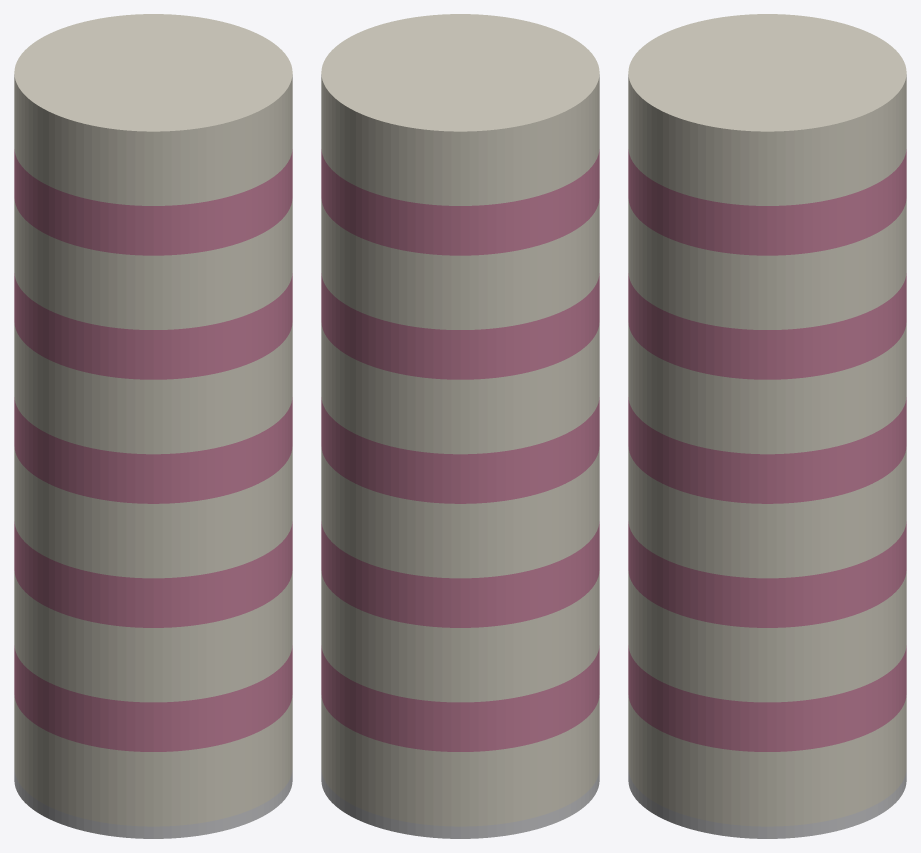
The model's file is cake_4in_layers6.glb.
3 views of the same model, side by side, from view 1: azimuth 30°, elevation 25°; view 2: azimuth 150°, elevation 25°; view 3: azimuth 270°, elevation 25° (orthographic).
Visible parts, largest first — view 1: geometry_10, geometry_6, geometry_0, geometry_2, geometry_4, geometry_8, geometry_9, geometry_3, geometry_1, geometry_7, geometry_5, geometry_11; view 2: geometry_10, geometry_6, geometry_0, geometry_2, geometry_4, geometry_8, geometry_9, geometry_3, geometry_1, geometry_7, geometry_5, geometry_11; view 3: geometry_10, geometry_6, geometry_0, geometry_2, geometry_4, geometry_8, geometry_9, geometry_3, geometry_1, geometry_7, geometry_5, geometry_11.
Part boxes in pixels (<box>): geometry_10: <box>14,14,292,205</box>; geometry_6: <box>14,323,292,454</box>; geometry_0: <box>14,695,292,826</box>; geometry_2: <box>14,571,292,702</box>; geometry_4: <box>14,447,292,578</box>; geometry_8: <box>14,199,292,329</box>; geometry_9: <box>14,149,292,255</box>; geometry_3: <box>14,521,292,627</box>; geometry_1: <box>14,645,292,751</box>; geometry_7: <box>14,273,292,379</box>; geometry_5: <box>14,397,292,503</box>; geometry_11: <box>14,769,292,838</box>; geometry_10: <box>321,14,599,205</box>; geometry_6: <box>321,323,599,454</box>; geometry_0: <box>321,695,599,826</box>; geometry_2: <box>321,571,599,702</box>; geometry_4: <box>321,447,599,578</box>; geometry_8: <box>321,199,599,329</box>; geometry_9: <box>321,149,599,255</box>; geometry_3: <box>321,521,599,627</box>; geometry_1: <box>321,645,599,751</box>; geometry_7: <box>321,273,599,379</box>; geometry_5: <box>321,397,599,503</box>; geometry_11: <box>321,769,599,838</box>; geometry_10: <box>628,14,906,205</box>; geometry_6: <box>628,323,906,454</box>; geometry_0: <box>628,695,906,826</box>; geometry_2: <box>628,571,906,702</box>; geometry_4: <box>628,447,906,578</box>; geometry_8: <box>628,199,906,329</box>; geometry_9: <box>628,149,906,255</box>; geometry_3: <box>628,521,906,627</box>; geometry_1: <box>628,645,906,751</box>; geometry_7: <box>628,273,906,379</box>; geometry_5: <box>628,397,906,503</box>; geometry_11: <box>628,769,906,838</box>.
Bounding box in the file's own units: 0.1016 × 0.285 × 0.1016.
